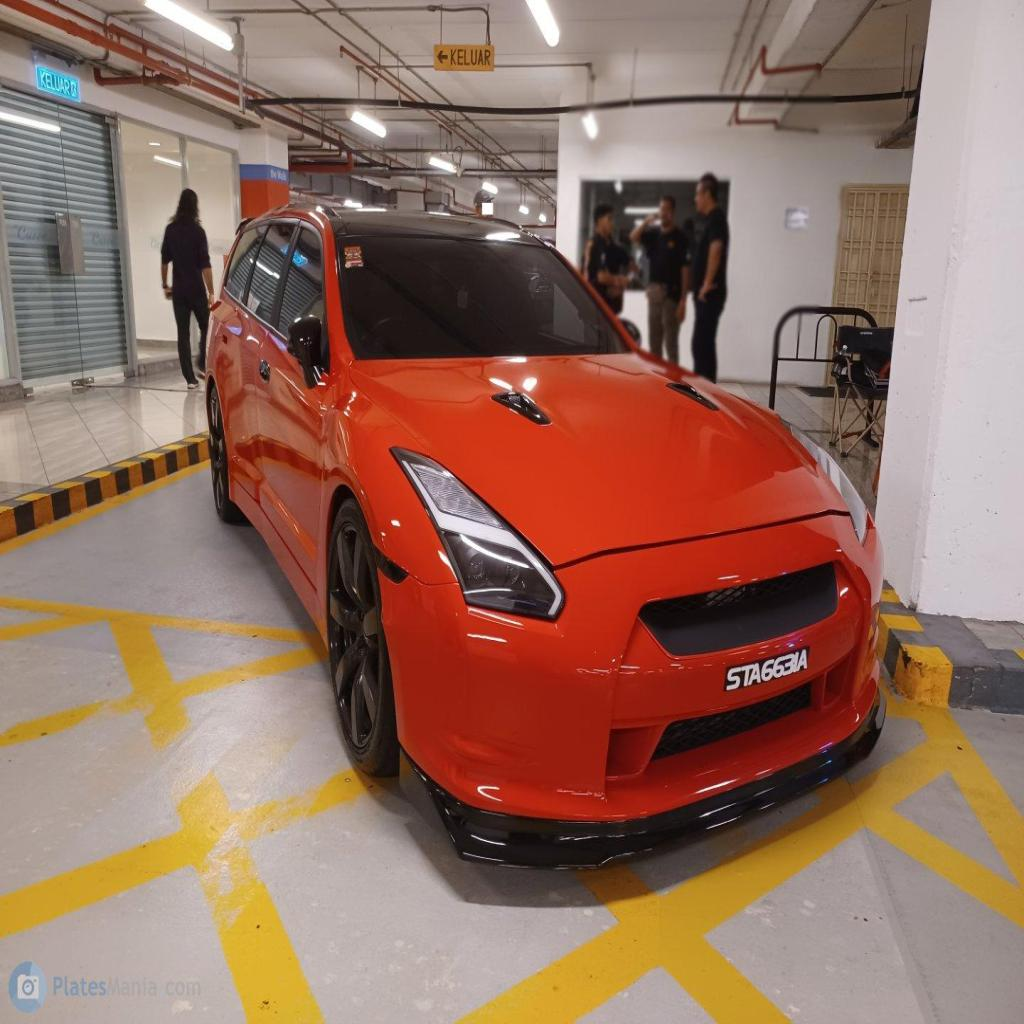car: (206, 206, 883, 864)
car plate: (723, 642, 816, 696)
